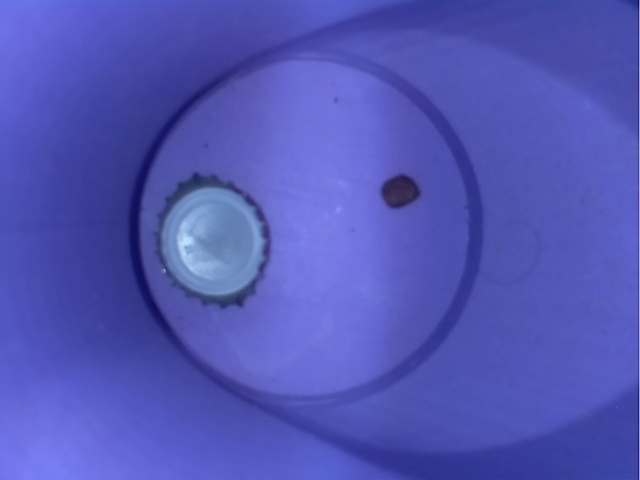capsule: (144, 170, 285, 311)
croquette: (370, 161, 434, 218)
